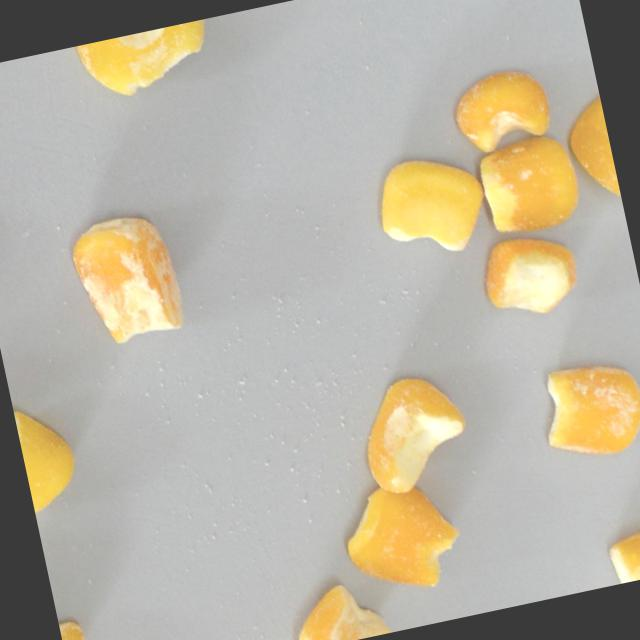no_canjicado: (334, 471, 470, 603), (351, 365, 477, 500), (372, 146, 493, 257), (473, 129, 586, 240), (475, 224, 583, 327), (12, 400, 84, 519)
no_desgerminado: (605, 528, 640, 584)
pelicula: (65, 208, 187, 350), (73, 17, 217, 104), (533, 354, 640, 466), (446, 60, 556, 158), (558, 85, 621, 205), (286, 575, 392, 640), (53, 599, 84, 640)
